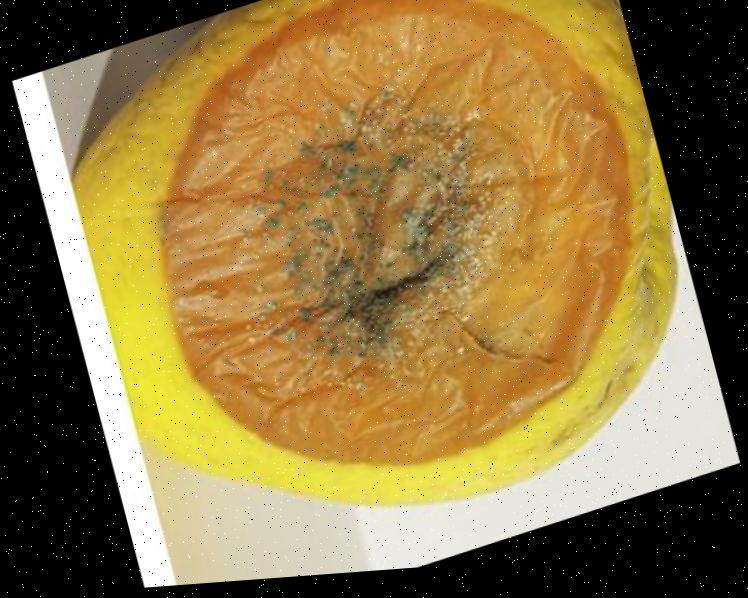ROT: (53, 0, 732, 594)
